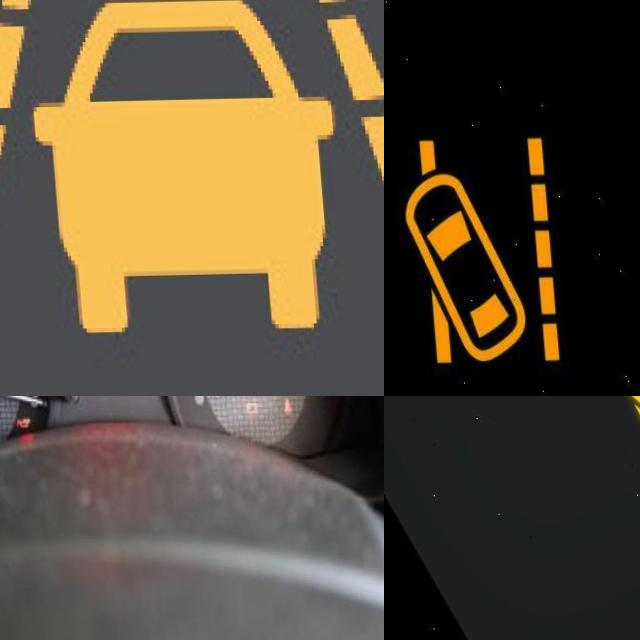Seat Belt: (276, 400, 289, 418)
